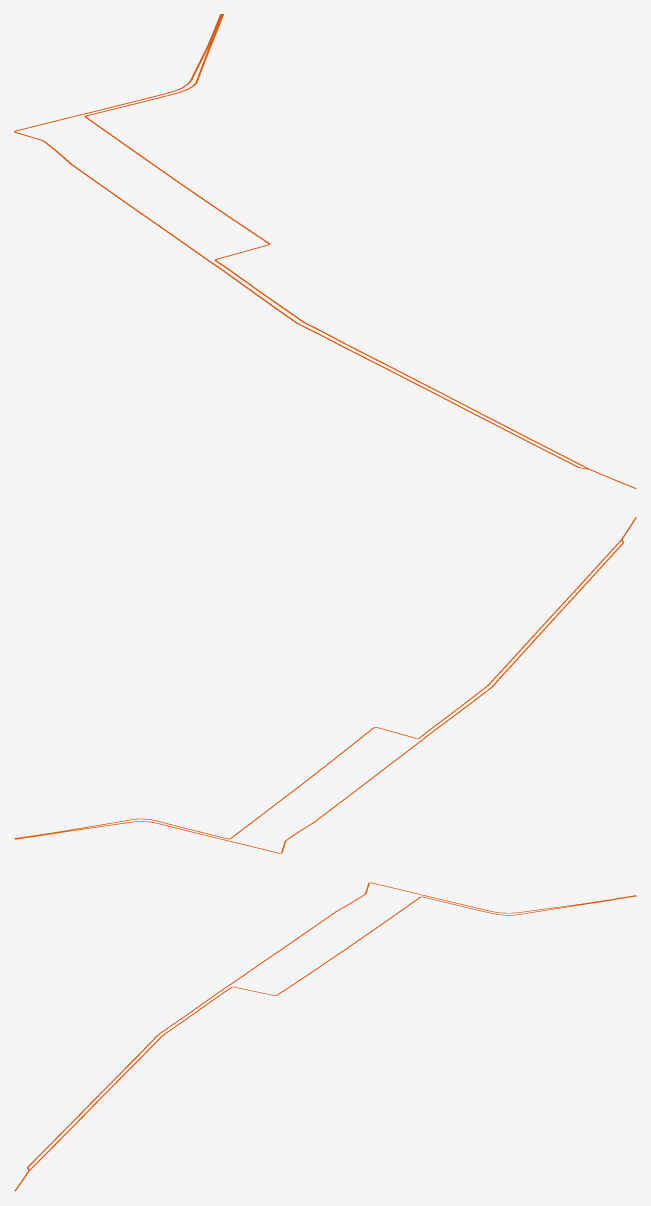
File: SEA_SLUTransit_New2020Land.FBX
3 renders of one model, top to bottom at view 1: azimuth 30°, elevation 25°; view 2: azimuth 150°, elevation 25°; view 3: azimuth 330°, elevation 25°, orthographic. The views are drawn at different scales.
Visible parts, largest first — view 1: SEA_SLUTransit_New2020Land; view 2: SEA_SLUTransit_New2020Land; view 3: SEA_SLUTransit_New2020Land.
Part boxes in pixels (<box>): SEA_SLUTransit_New2020Land: <box>14,14,636,488</box>; SEA_SLUTransit_New2020Land: <box>14,517,636,853</box>; SEA_SLUTransit_New2020Land: <box>14,882,636,1191</box>.
Bounding box in the file's own units: 465 × 28.38 × 1763.
